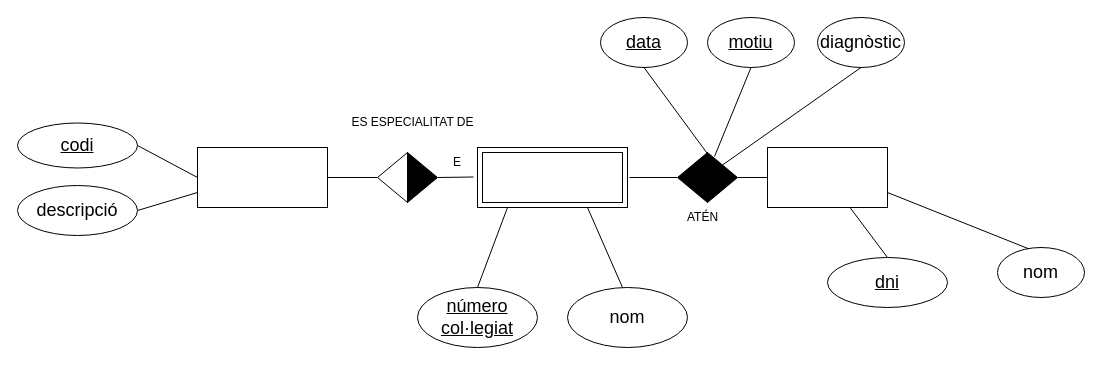
This 1102x365 diagram has some shape labels left out. The box of each missing label's shape, as (x1, y1, x2, y2) in pixels:
ESPECIALITAT: (196, 146, 328, 208)
METGE: (476, 146, 628, 208)
PACIENT: (766, 146, 888, 208)
